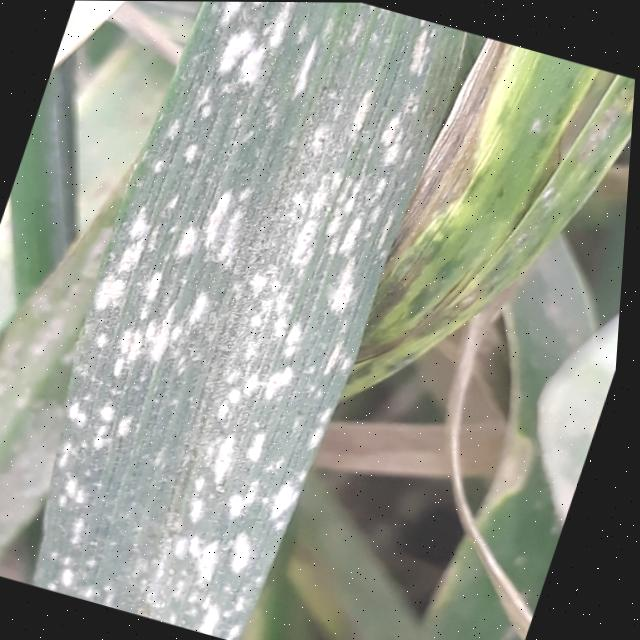powder_mildew: (0, 0, 472, 640), (335, 26, 639, 440), (0, 211, 100, 492), (48, 0, 182, 103)
